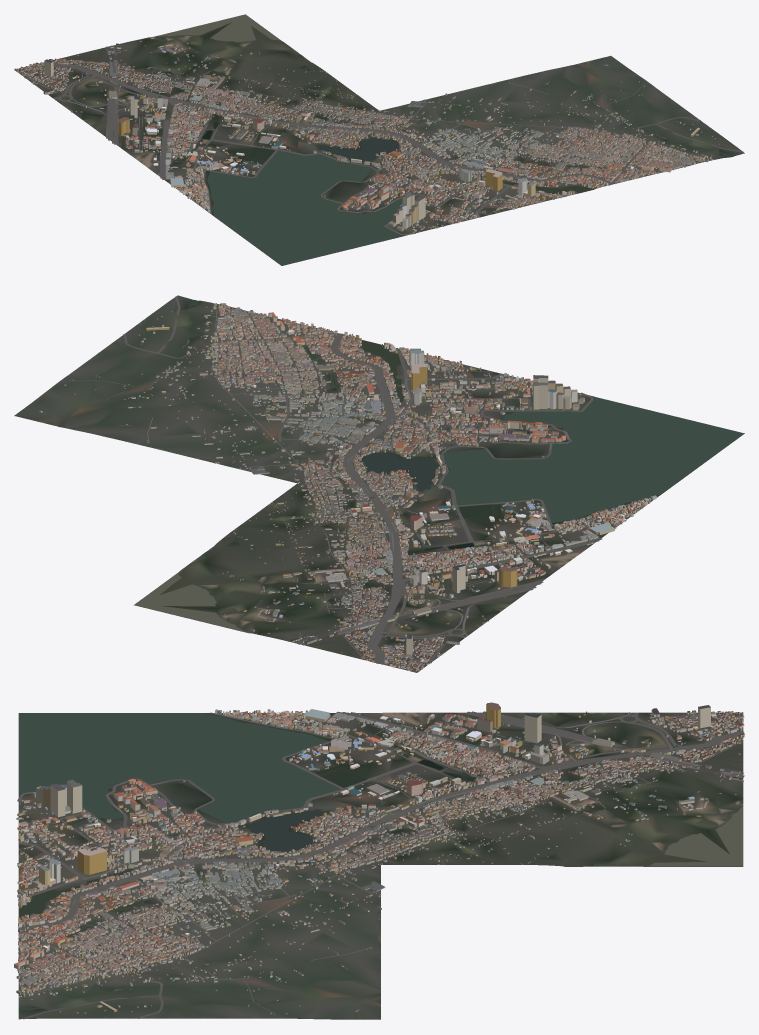
The picture shows the model from 3 angles, top to bottom: view 1: azimuth 30°, elevation 25°; view 2: azimuth 150°, elevation 25°; view 3: azimuth 270°, elevation 25°; orthographic projection. The views are drawn at different scales.
Visible parts, largest first — view 1: ground, buildings, water, roads; view 2: ground, buildings, water, roads; view 3: ground, buildings, water, roads.
Part boxes in pixels (left/top/right/bottom): ground: left=14, top=19, right=744, bottom=265; buildings: left=14, top=36, right=719, bottom=232; water: left=155, top=14, right=734, bottom=265; roads: left=16, top=45, right=743, bottom=235; ground: left=14, top=295, right=744, bottom=672; buildings: left=39, top=303, right=656, bottom=672; water: left=118, top=299, right=744, bottom=632; roads: left=74, top=296, right=657, bottom=671; ground: left=18, top=712, right=743, bottom=1019; buildings: left=14, top=702, right=744, bottom=1014; water: left=19, top=713, right=743, bottom=1012; roads: left=17, top=711, right=744, bottom=1019.
Size of the model in its own units: 2818 by 121 by 2828.
